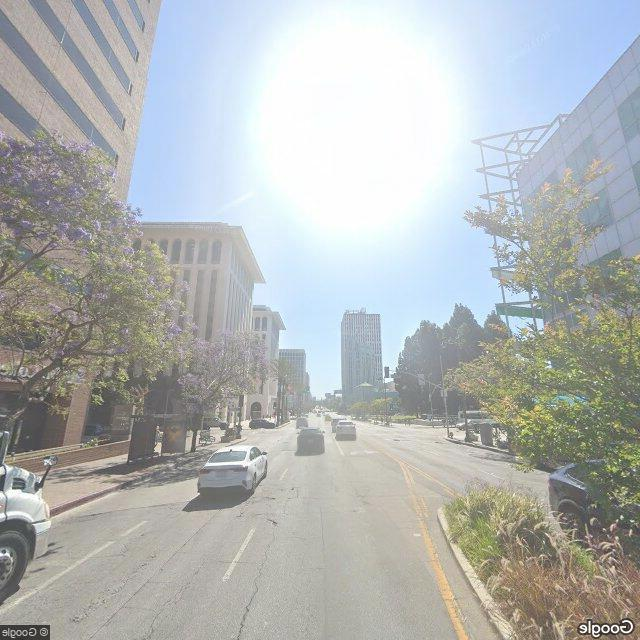pothole: (126, 559, 208, 639), (223, 537, 275, 639)
